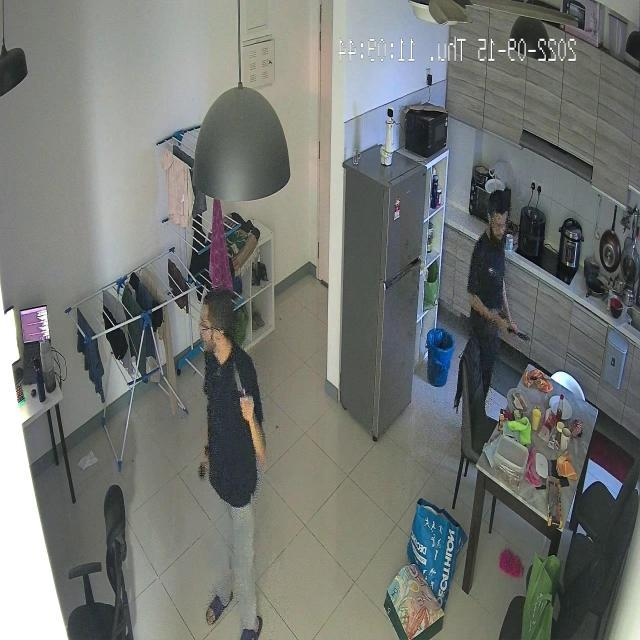Knife: (228, 357, 256, 399)
